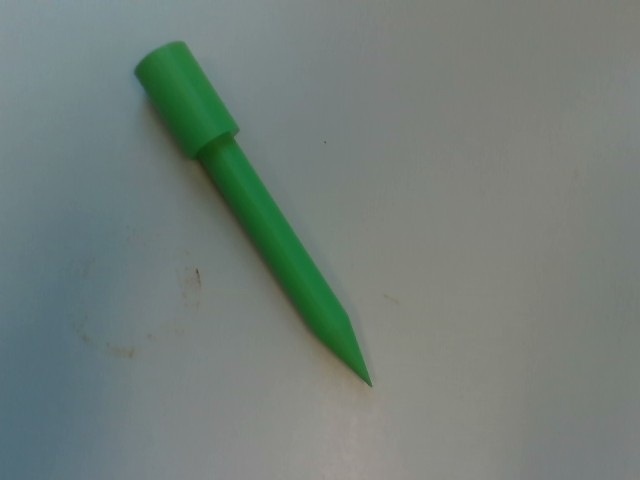Probe: (130, 30, 379, 394)
